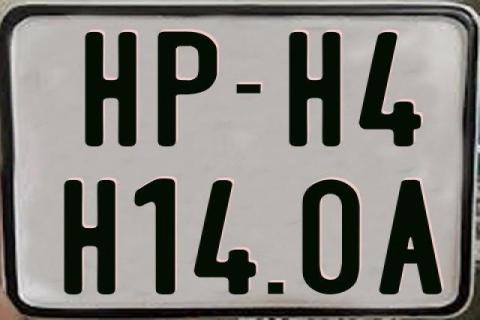0: (193, 179, 261, 295), (357, 30, 423, 144), (302, 178, 363, 298), (134, 178, 175, 298)
A: (378, 179, 441, 295)
H: (65, 180, 122, 296), (86, 31, 140, 148), (289, 32, 341, 146)
P: (155, 31, 220, 148)
